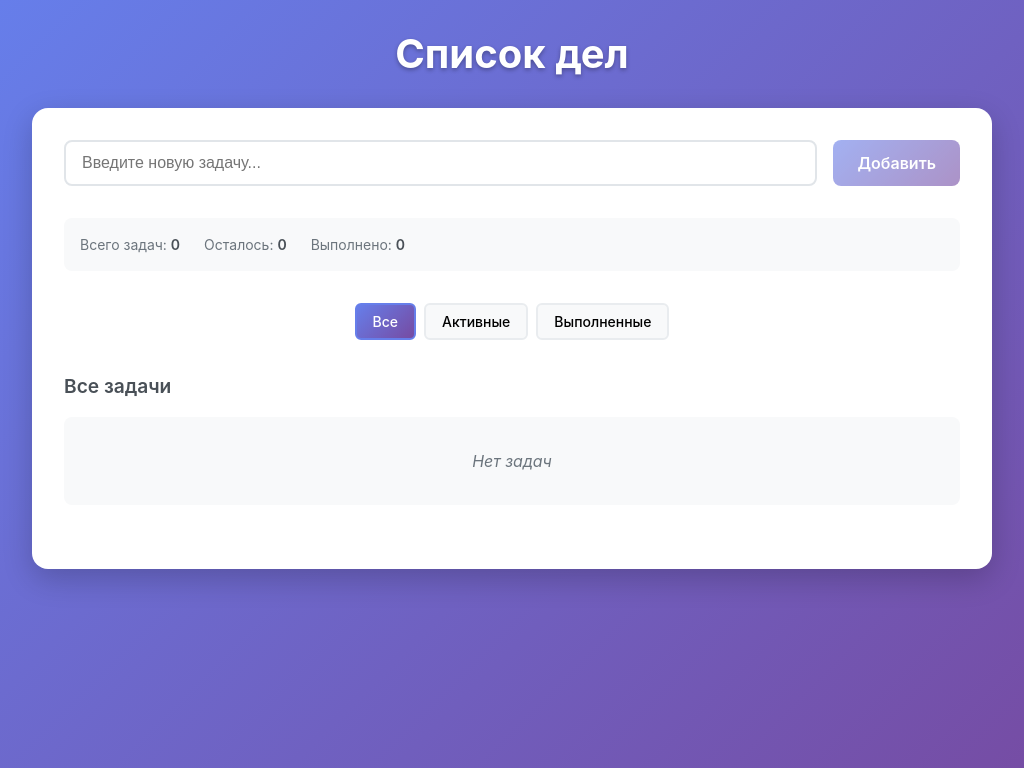
App Integration Tests › очищает выполненные задачи
Type "Активная задача" into the field with placeholder "Введите новую задачу...". click: (441, 163)
box: [64,140,818,186]
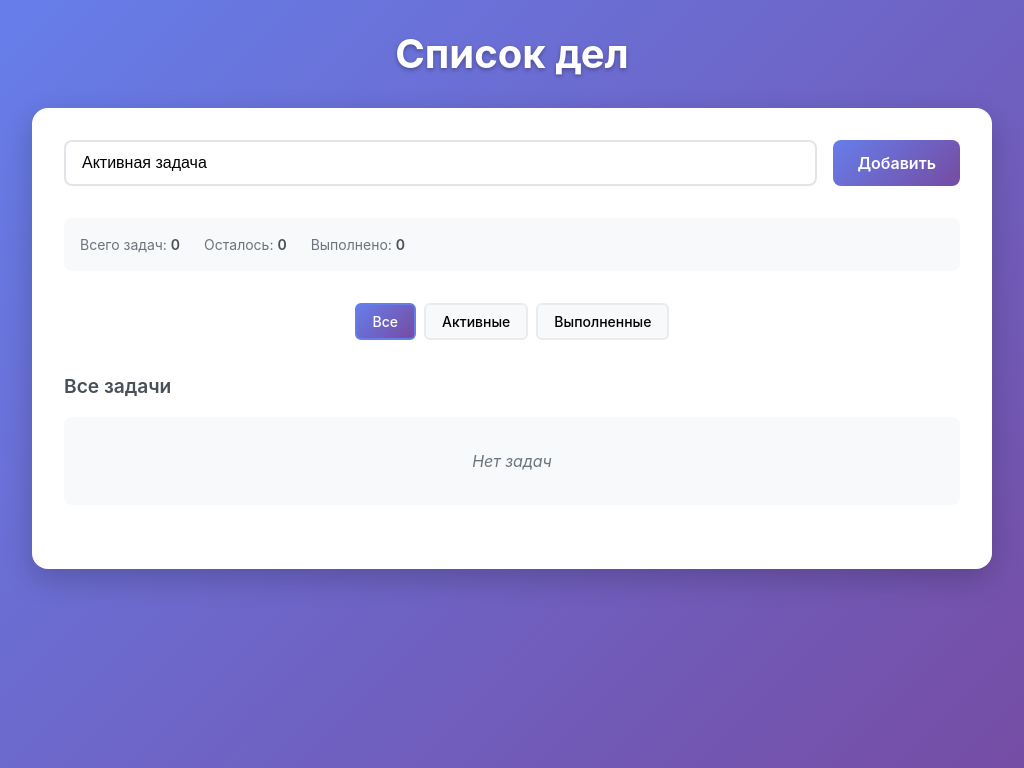
Click the button "Добавить". click: (897, 163)
box: [834,140,960,186]
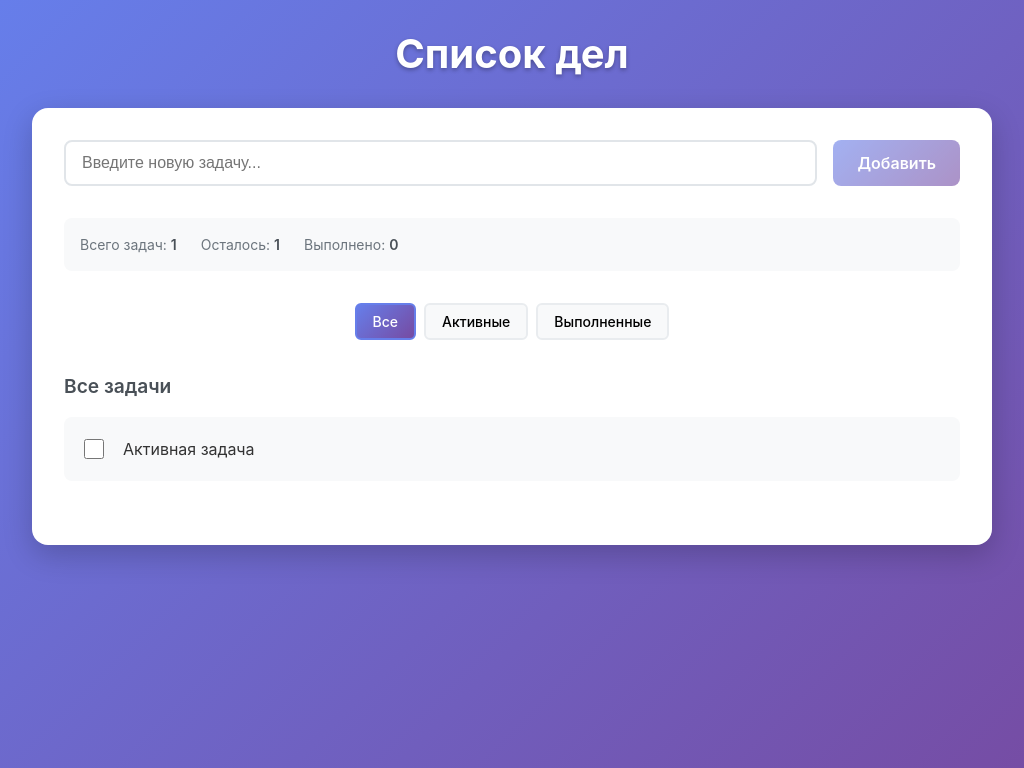
Type "Выполненная задача" into the field with placeholder "Введите новую задачу...". click: (441, 163)
box: [64,140,818,186]
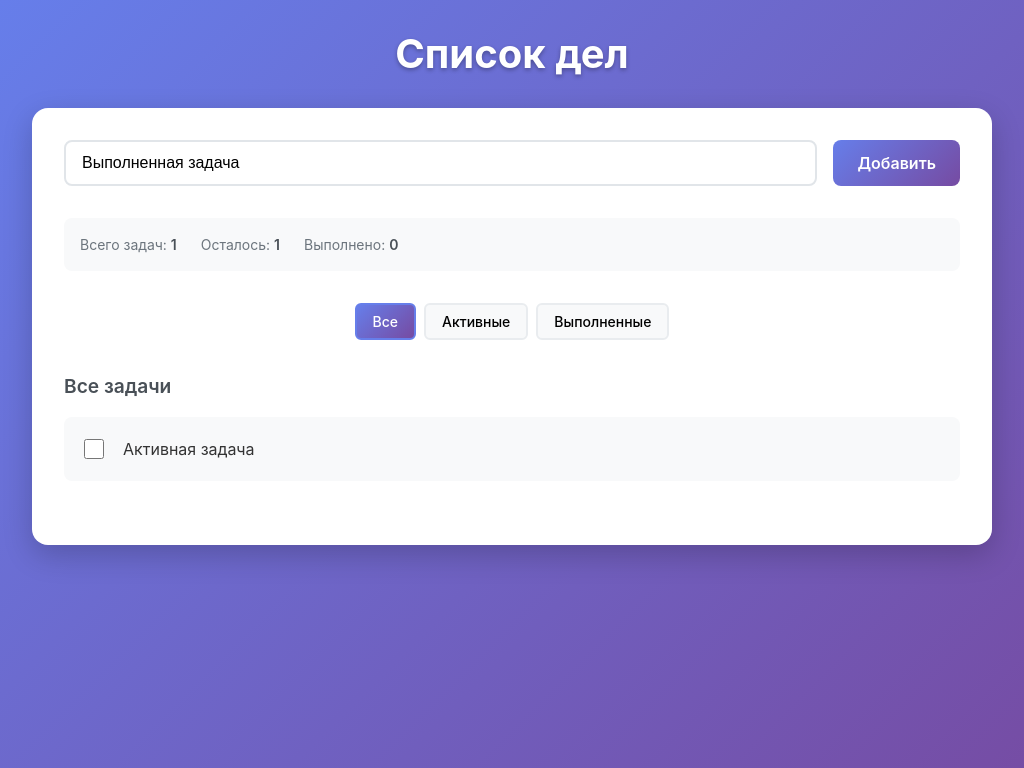
Click the button "Добавить". click: (897, 163)
box: [834,140,960,186]
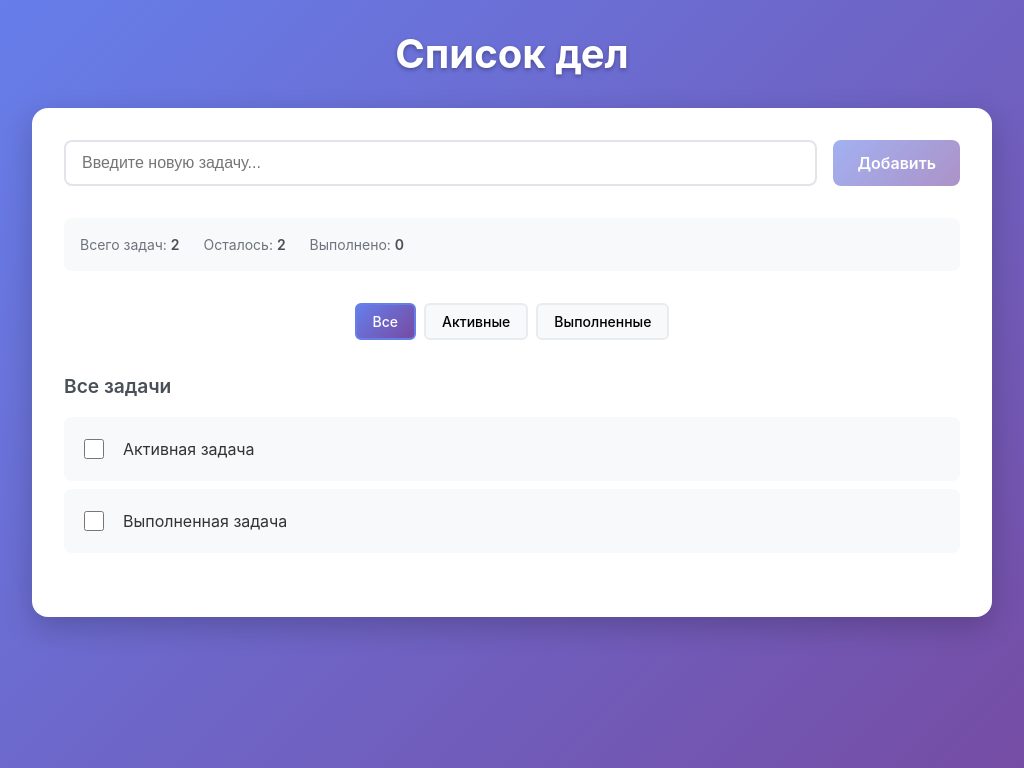
Now the text "Активная задача" is shown, box [123,439,255,459]
Now the text "Выполненная задача" is shown, box [123,511,287,531]
// Отмечаем вторую задачу как выполненную
Click the checkbox next to "Выполненная задача". click: (94, 521)
box: [84,511,104,531]
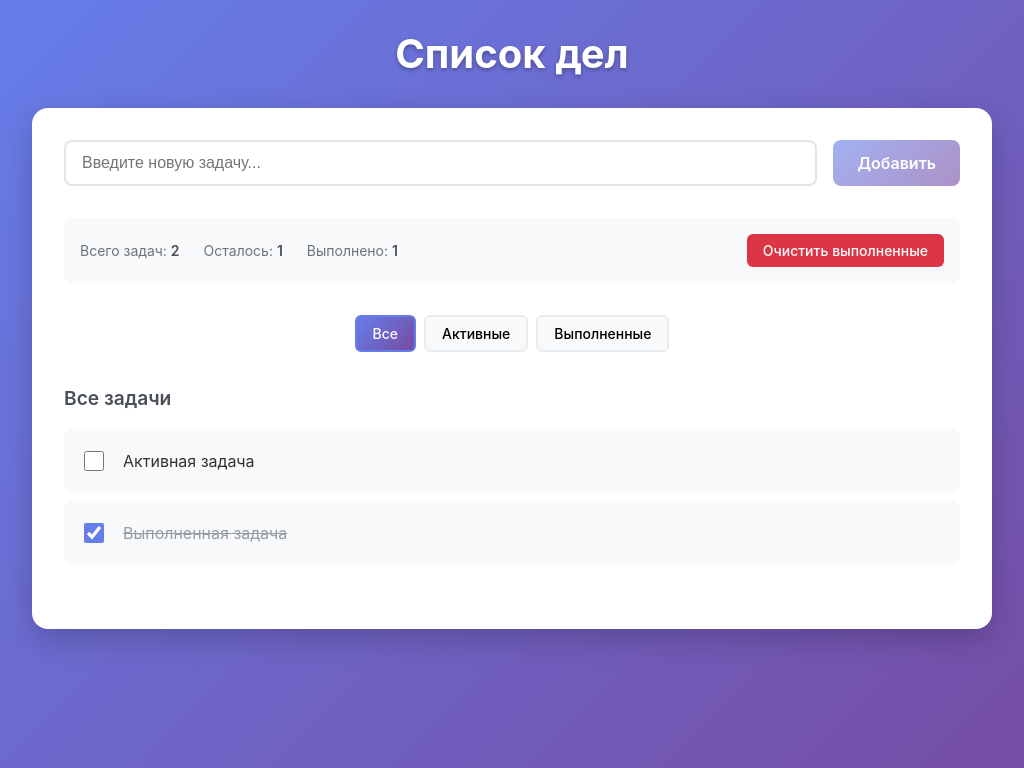
Now the checkbox next to "Выполненная задача" is checked, box [84,523,104,543]
Click the button "Очистить выполненные". click: (845, 250)
box: [747,234,944,267]
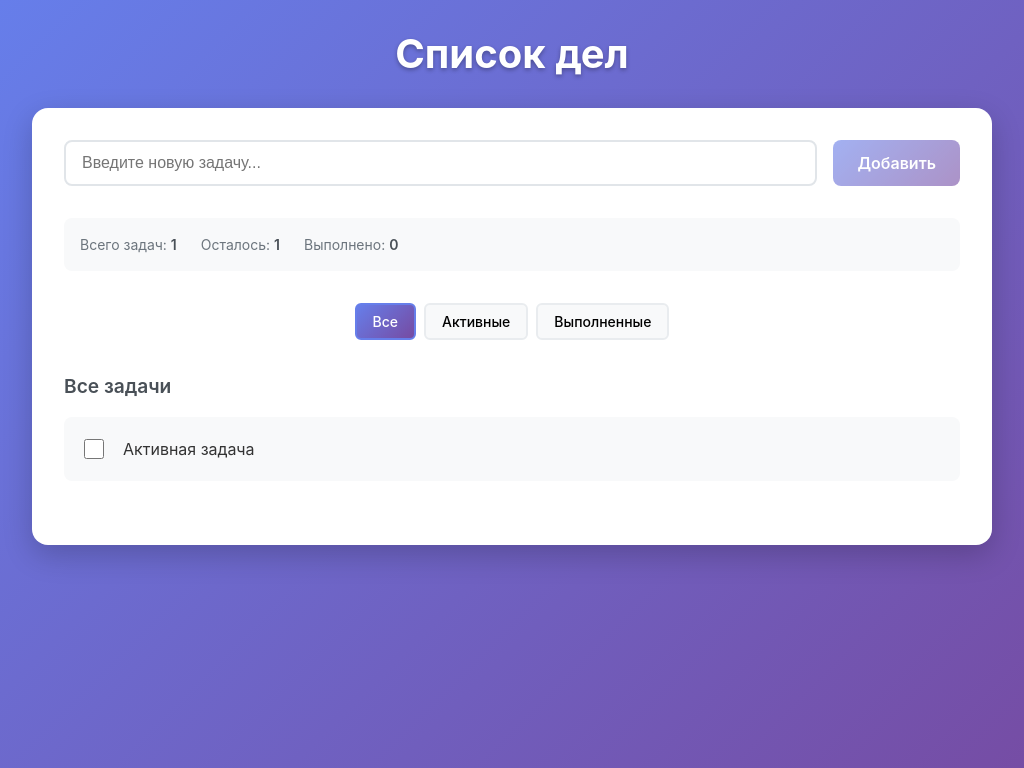
Now the text "Активная задача" is shown, box [123,439,255,459]
Now the text "Выполненная задача" is gone
Now the text "1" next to "Всего задач:" is shown, box [171,236,177,253]
